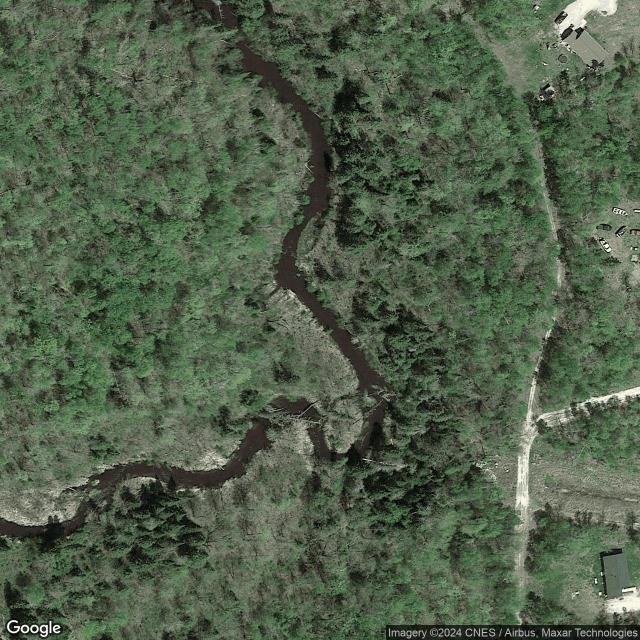Propane: (593, 576, 599, 585), (633, 207, 640, 214), (579, 75, 586, 82)
